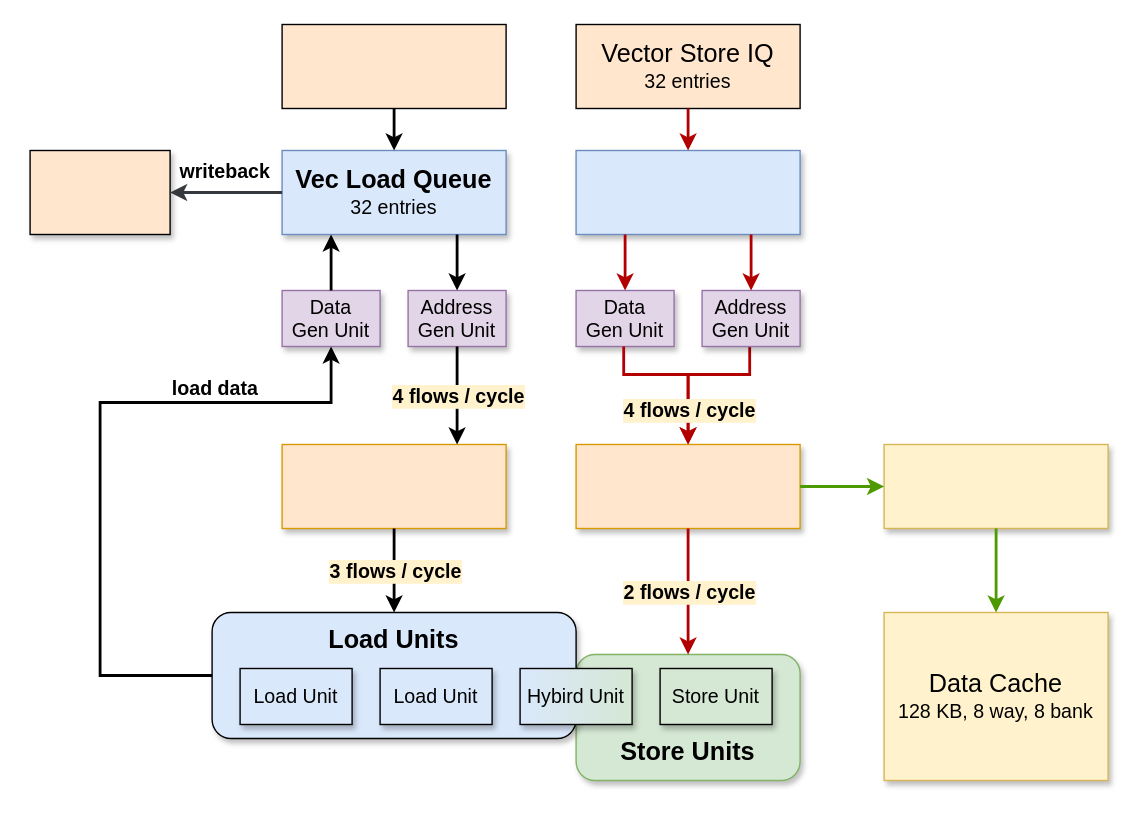
This 1141x815 diagram has some shape labels left out. The shapes that lost their labels are listed below. From the top down, each one's centre as x and y in pixels, then its label:
At (393,65): "Vector Load IQ 32 entries".
At (100,194): "Vector RF".
At (688,194): "Vec Store Queue 32 entries".
At (394,488): "Load Flow Queue 24 entries".
At (688,488): "Store Flow Queue 16 entries".
At (996,488): "Store Buffer 16 x 64B".
